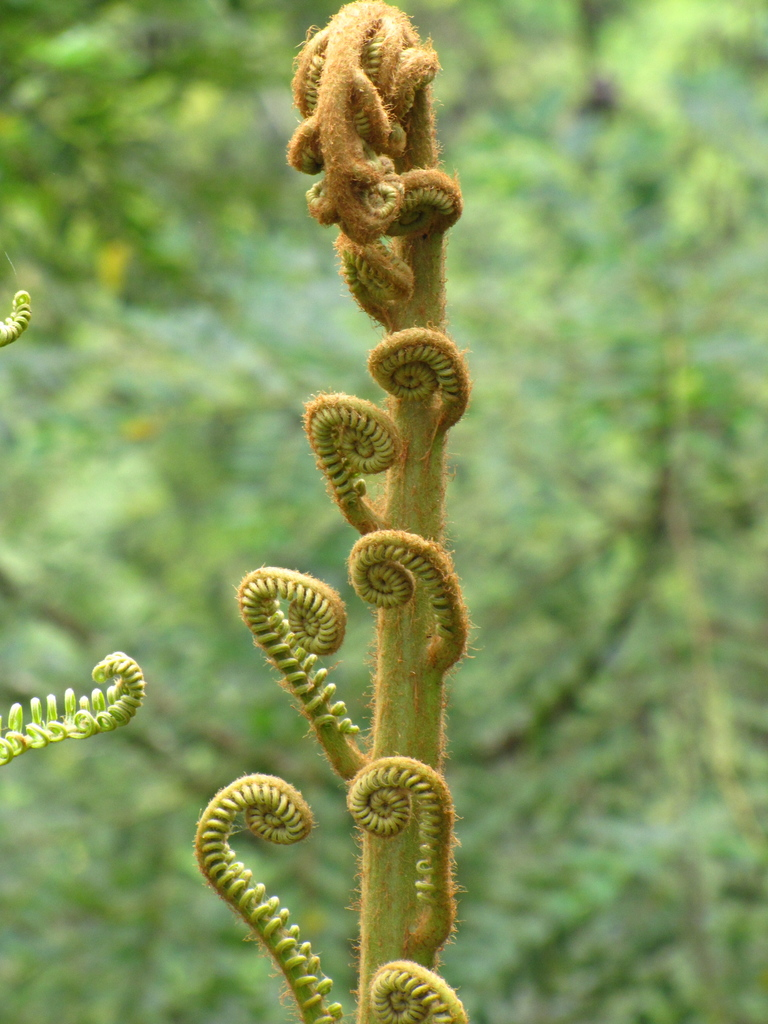person: (0, 287, 33, 349)
